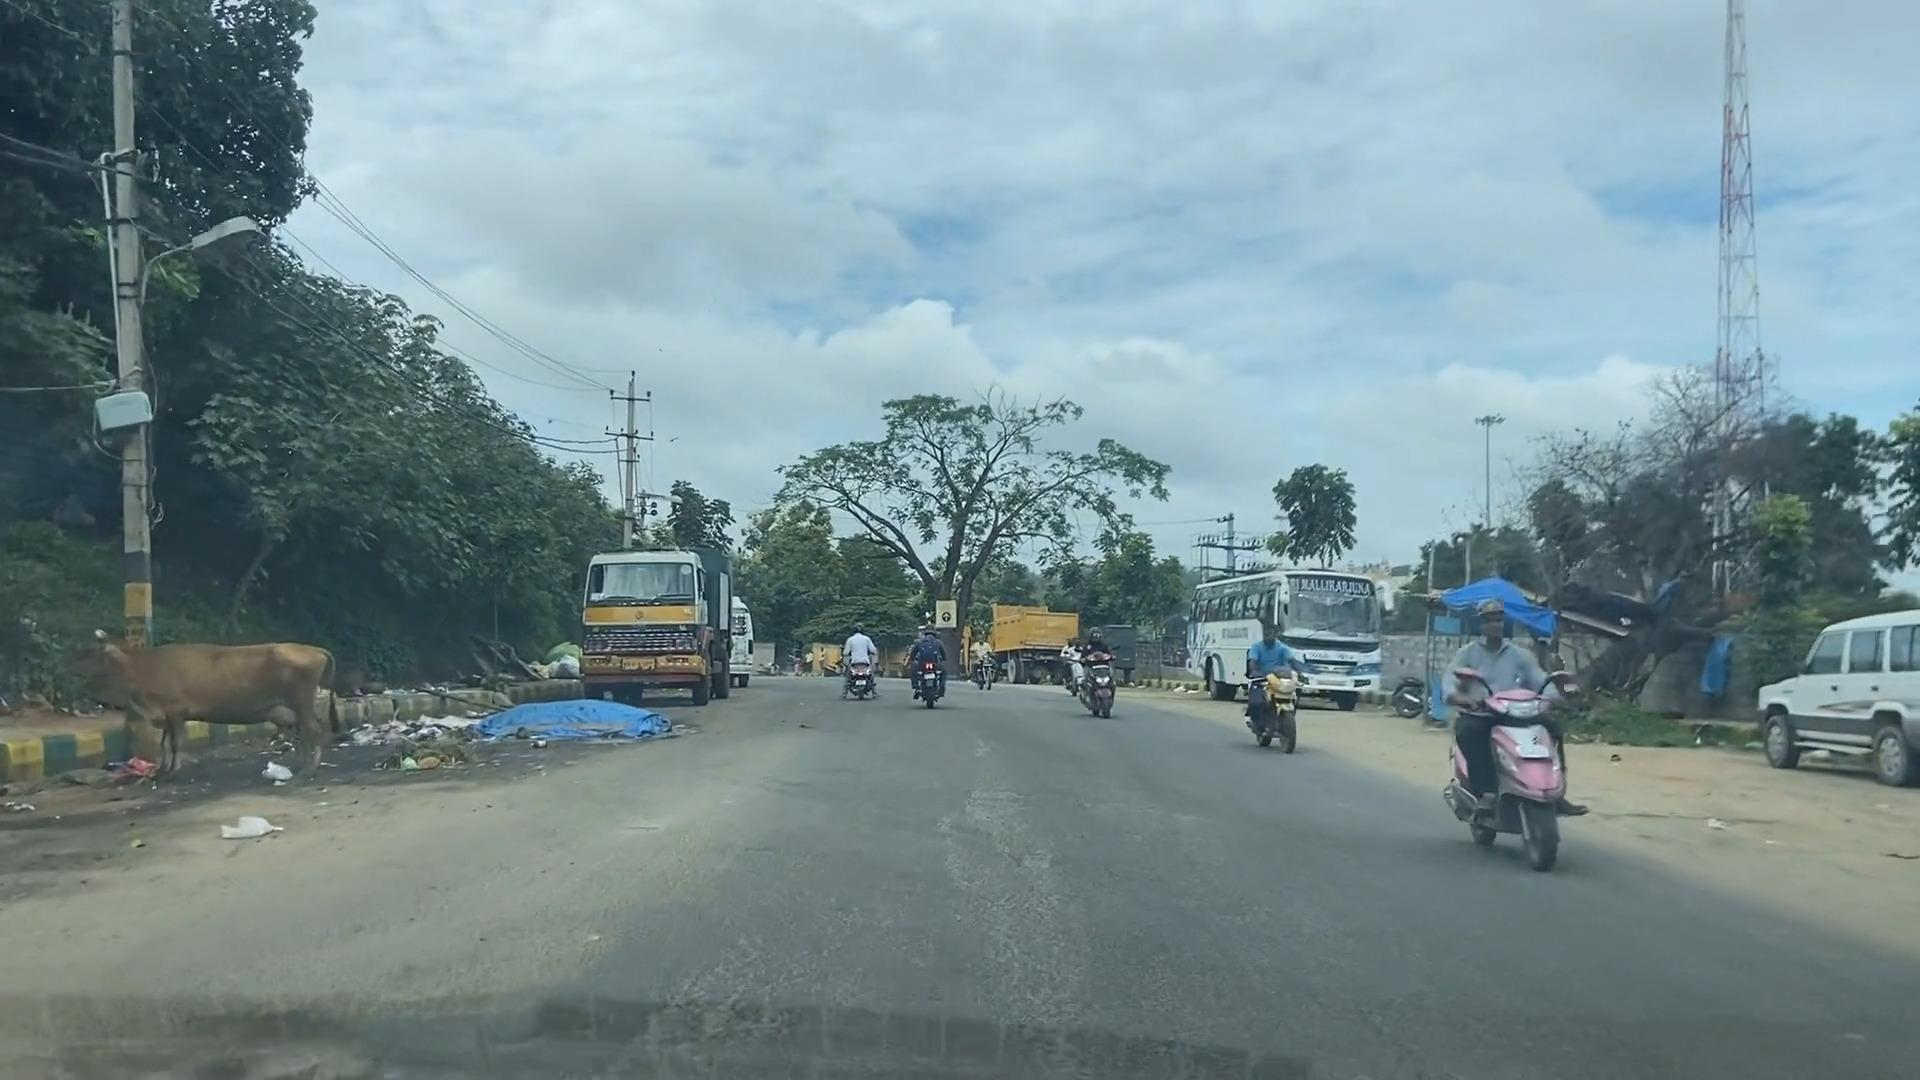HMV: (559, 522, 752, 733), (1162, 545, 1366, 717), (957, 587, 1098, 703)
LMV: (1443, 579, 1596, 886), (1751, 616, 1920, 796), (884, 549, 980, 773), (1221, 612, 1313, 756), (811, 601, 885, 736), (1058, 624, 1120, 735)
